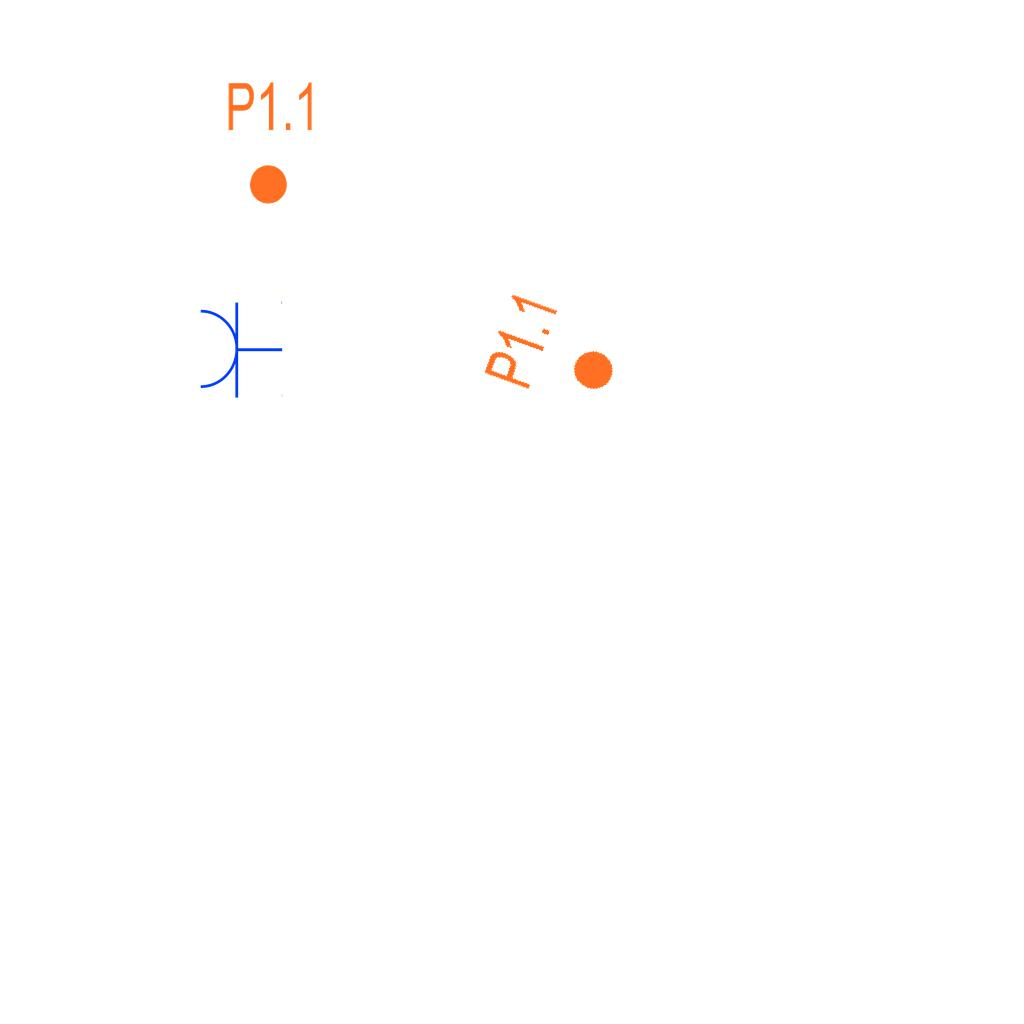Downlight_LED_Einbauleuchten_Flur: (479, 287, 632, 419), (225, 79, 318, 207)
Schukosteckdose_einfach: (196, 299, 283, 399)
